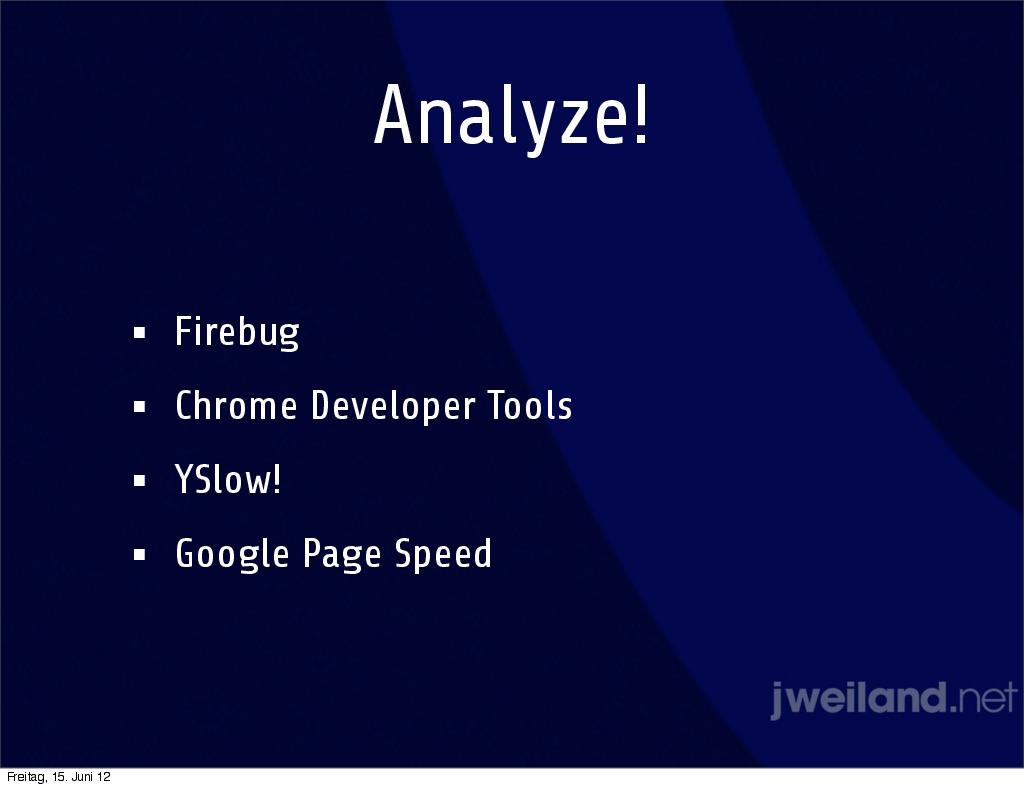subtitle: (753, 662, 1024, 746)
title: (84, 268, 625, 608), (364, 51, 681, 167)
